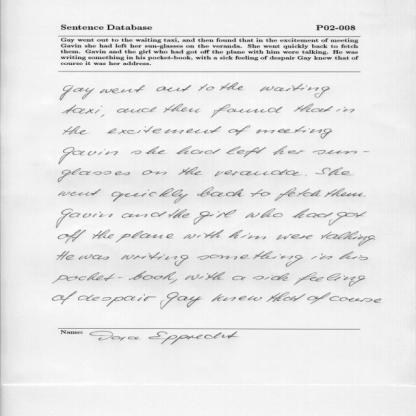Handwritten text: (44, 288, 384, 316), (47, 247, 370, 269), (58, 76, 339, 101), (50, 205, 373, 226), (51, 163, 366, 184), (56, 143, 362, 164), (52, 227, 383, 246), (47, 121, 342, 142), (47, 270, 368, 288), (54, 186, 374, 202), (63, 102, 365, 118)
